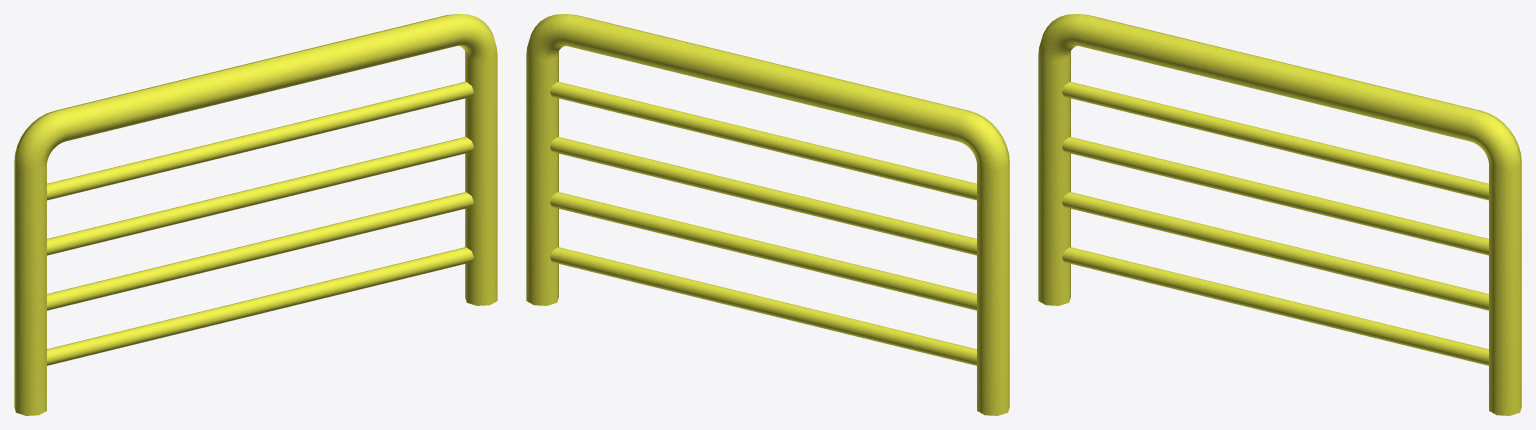
The model's file is Fence.FBX.
3 views of the same model, side by side, from view 1: azimuth 30°, elevation 25°; view 2: azimuth 150°, elevation 25°; view 3: azimuth 330°, elevation 25° (orthographic).
Visible parts, largest first — view 1: Fence; view 2: Fence; view 3: Fence.
Part boxes in pixels (bbox=[...]): Fence: bbox=[14, 14, 497, 415]; Fence: bbox=[526, 14, 1009, 415]; Fence: bbox=[1038, 14, 1521, 415].
Size of the model in its own units: 3189 by 194 by 1847.
Materials: 1 (1 with a texture image).
